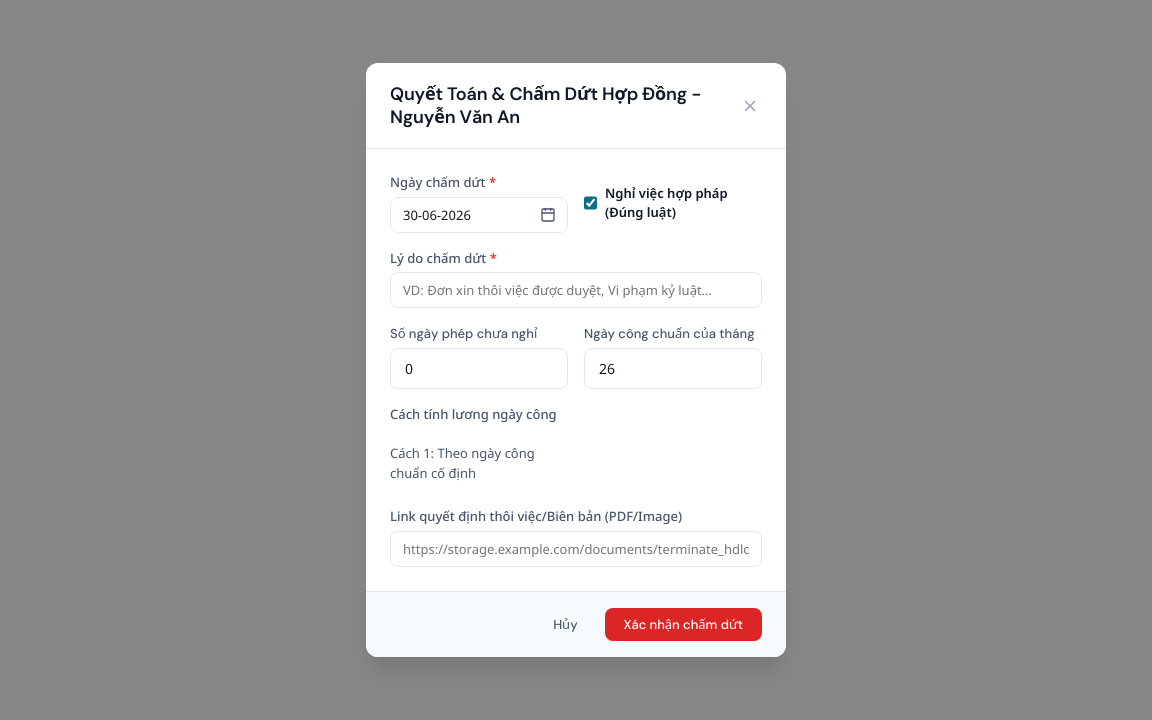
TerminateContractModal › shows warning and unnotified days input when unlawful checkbox is active
Expected: the text "⚠️ CẢNH BÁO NGHỈ NGANG" is not shown
Expected: the field labelled "Số ngày không báo trước" is not shown
// Uncheck it
Click the checkbox labelled "Nghỉ việc hợp pháp (Đúng luật)" at x=590, y=203, box [584, 195, 597, 211]
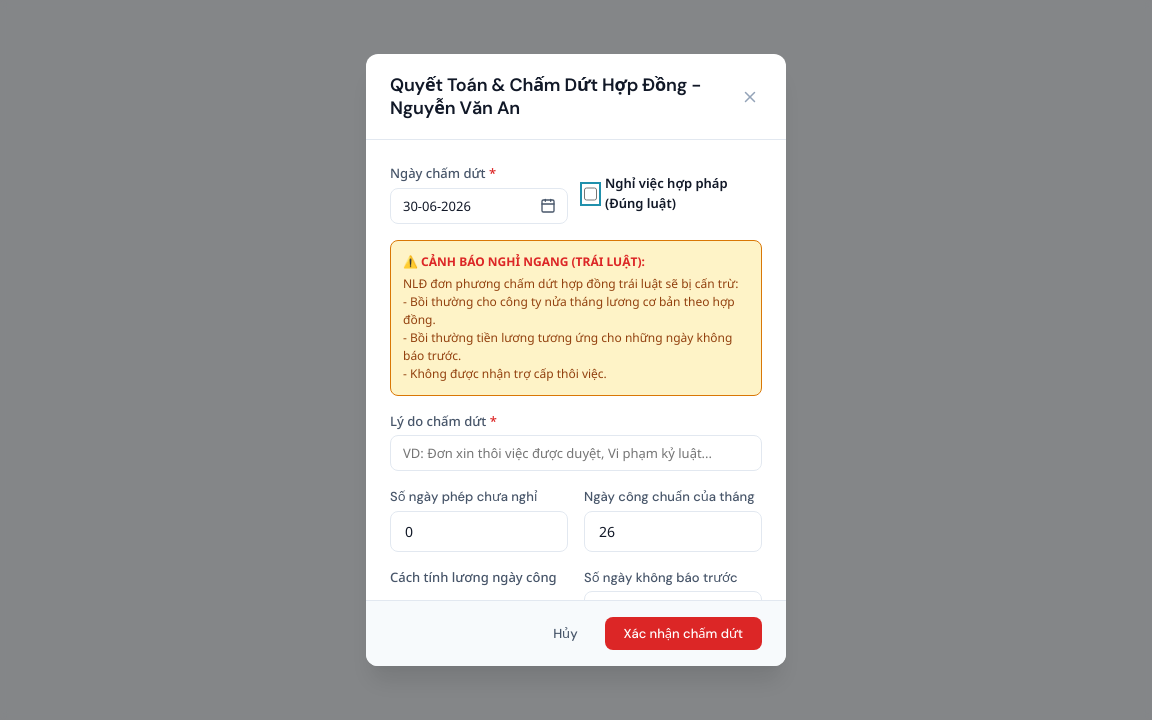
Result: the checkbox labelled "Nghỉ việc hợp pháp (Đúng luật)" is not checked at [584, 186, 597, 202]
Result: the text "⚠️ CẢNH BÁO NGHỈ NGANG (TRÁI LUẬT):" is shown at [403, 252, 645, 270]
